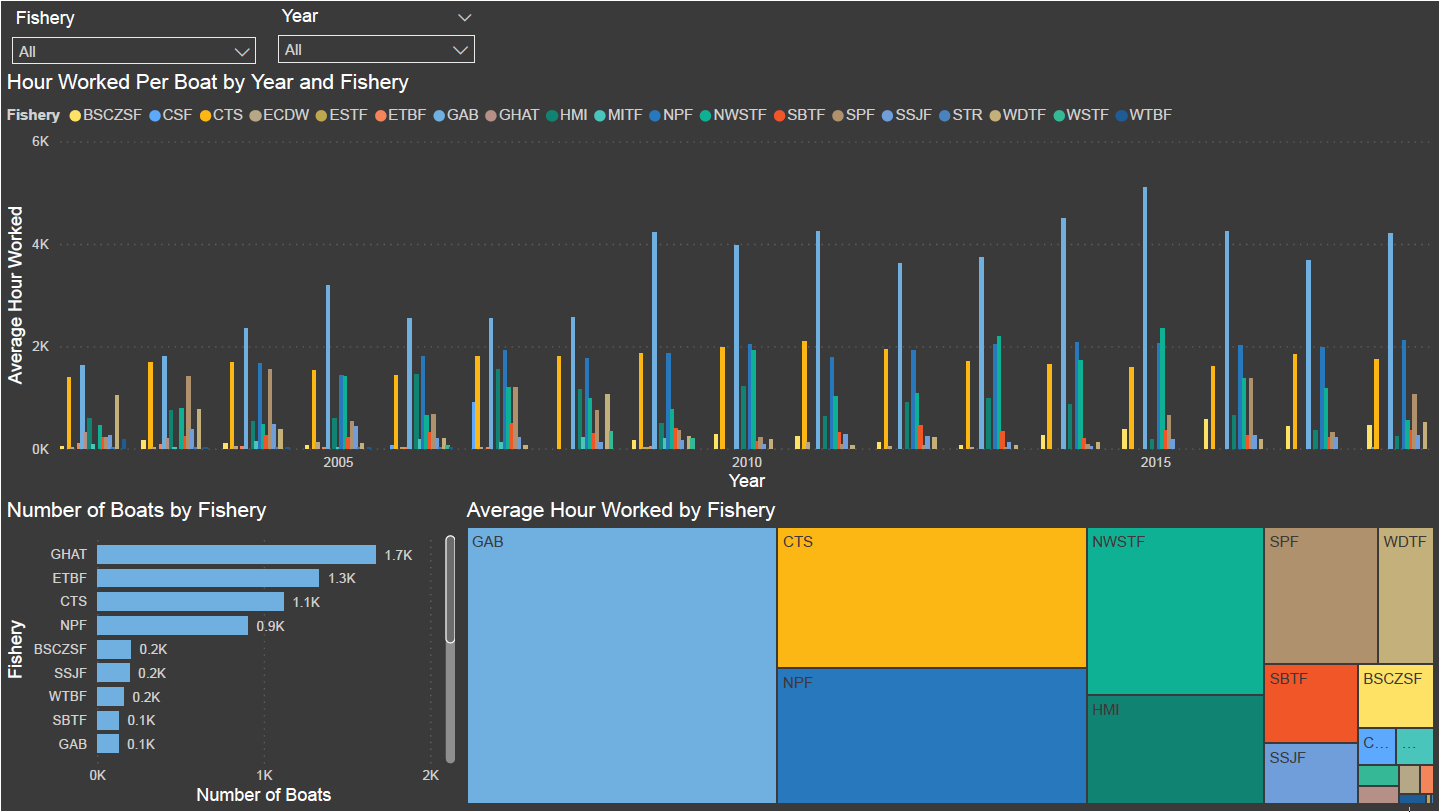

This screenshot's page, from the dashboard's own definition file:
{"tool":"powerbi","page":{"name":"Page 1","canvas":[1280,720],"ordinal":0},"visuals":[{"type":"barChart","fields":{"Y":["Sum(annual-logbook-effort-data-29-06-2020 (1).Number of Boats)"],"Category":["annual-logbook-effort-data-29-06-2020 (1).Fishery"]},"box":[0,441.7,409,278.3],"z":0},{"type":"treemap","fields":{"Group":["annual-logbook-effort-data-29-06-2020 (1).Fishery"],"Values":["Sum(annual-logbook-effort-data-29-06-2020 (1).Average Hour Worked)"]},"box":[409,441.7,871.3,278.3],"z":1},{"type":"clusteredColumnChart","title":"Hour Worked Per Boat by Year and Fishery","fields":{"Series":["annual-logbook-effort-data-29-06-2020 (1).Fishery"],"Category":["annual-logbook-effort-data-29-06-2020 (1).Year"],"Y":["Sum(annual-logbook-effort-data-29-06-2020 (1).Average Hour Worked)"]},"box":[0,61.7,1280.3,380],"z":2},{"type":"slicer","fields":{"Values":["annual-logbook-effort-data-29-06-2020 (1).Fishery"]},"box":[0,1.2,237.2,60.5],"z":3},{"type":"slicer","fields":{"Values":["annual-logbook-effort-data-29-06-2020 (1).Year"]},"box":[236.7,0,195,62.5],"z":4}]}

Visuals, with their boxes in screenshot pixels (x1, y1, x2, y2), scaled from the page's 1280x720 canvas onto the 1441x812 screenshot:
barChart - Sum(annual-logbook-effort-data-29-06-2020 (1).Number of Boats) x annual-logbook-effort-data-29-06-2020 (1).Fishery: (0,498,460,811)
treemap - annual-logbook-effort-data-29-06-2020 (1).Fishery x Sum(annual-logbook-effort-data-29-06-2020 (1).Average Hour Worked): (460,498,1440,811)
"Hour Worked Per Boat by Year and Fishery" clusteredColumnChart: (0,70,1440,498)
slicer - annual-logbook-effort-data-29-06-2020 (1).Fishery: (0,1,267,70)
slicer - annual-logbook-effort-data-29-06-2020 (1).Year: (266,0,486,70)
